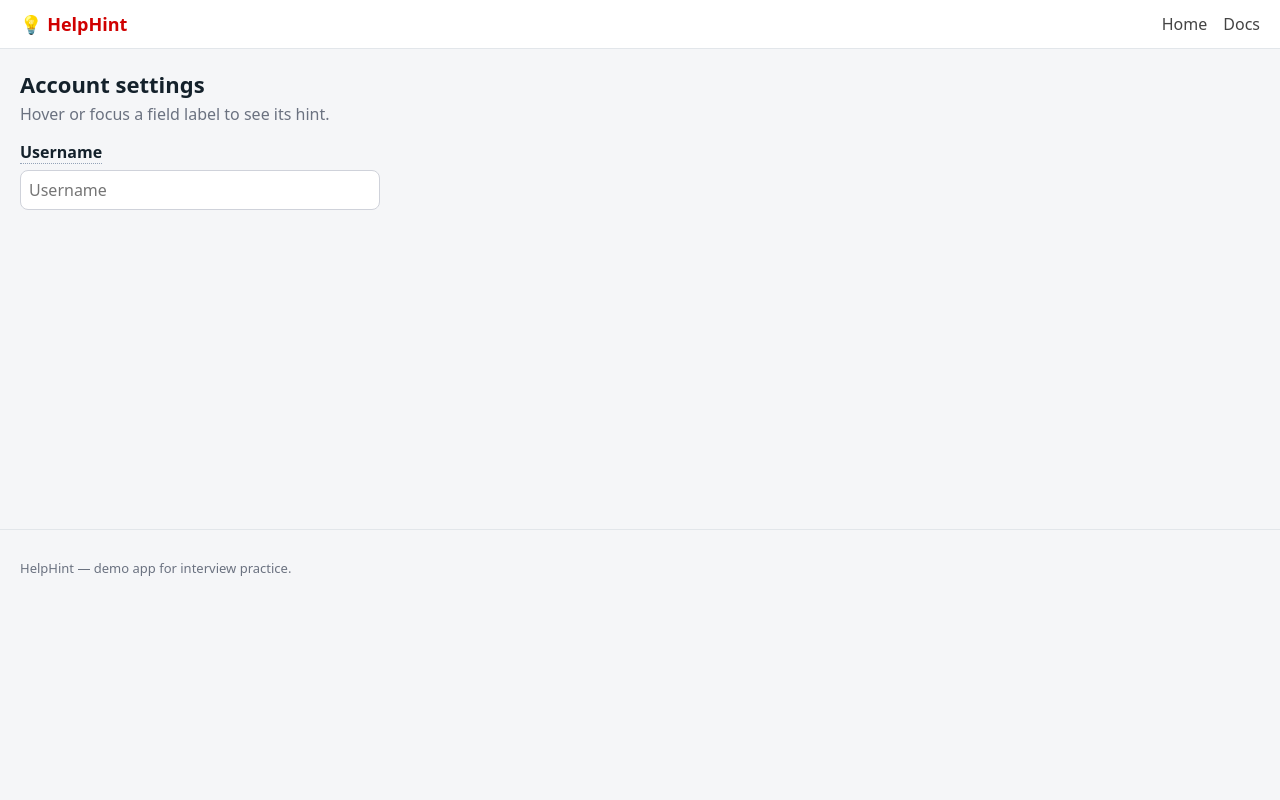
Test: m09 · HelpHint — app renders › navigates to the Docs route via the navbar
Click the link with test id "nav-docs" at (1242, 24), box [1223, 13, 1260, 35]
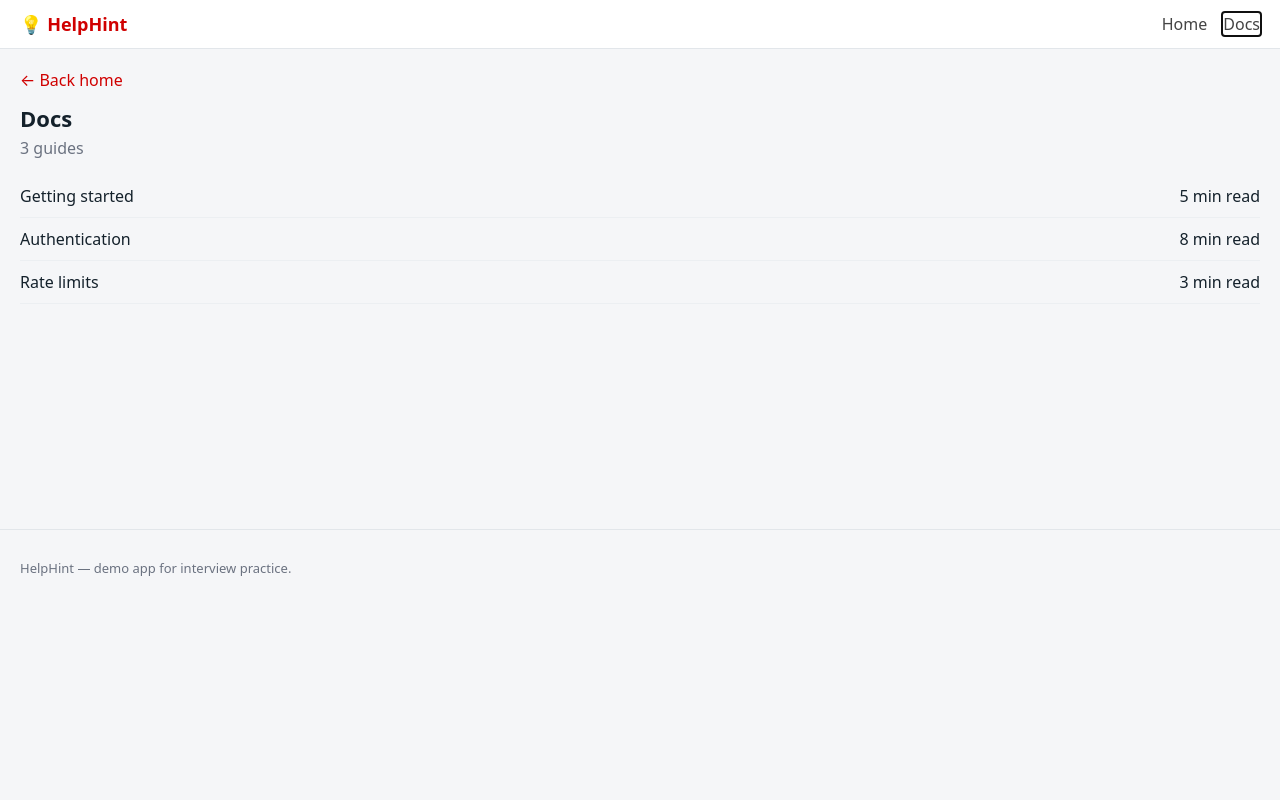
expect the element with test id "docs-page" is shown: met, box [20, 69, 1260, 304]
